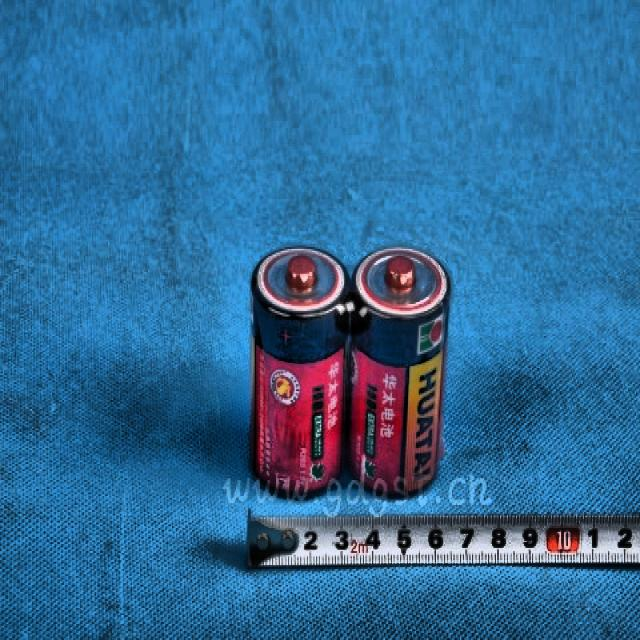Non-Valuable Waste - Batteries: (349, 247, 449, 496), (251, 247, 348, 496)
